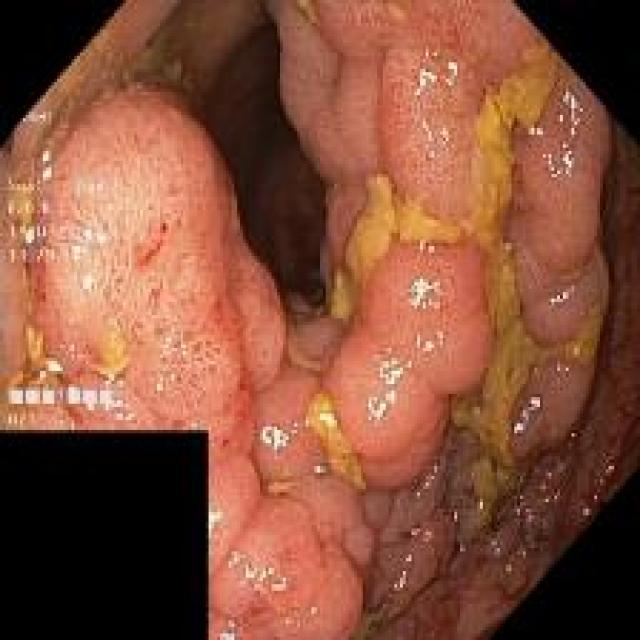Polyps: (274, 3, 612, 541), (18, 85, 285, 572), (505, 63, 612, 462), (506, 63, 612, 345), (329, 238, 494, 396), (210, 497, 362, 640), (325, 323, 448, 488), (384, 50, 482, 221), (252, 363, 330, 486), (378, 452, 446, 546), (368, 538, 439, 609), (378, 487, 411, 546), (429, 508, 456, 577), (342, 523, 376, 566), (361, 488, 391, 531)
